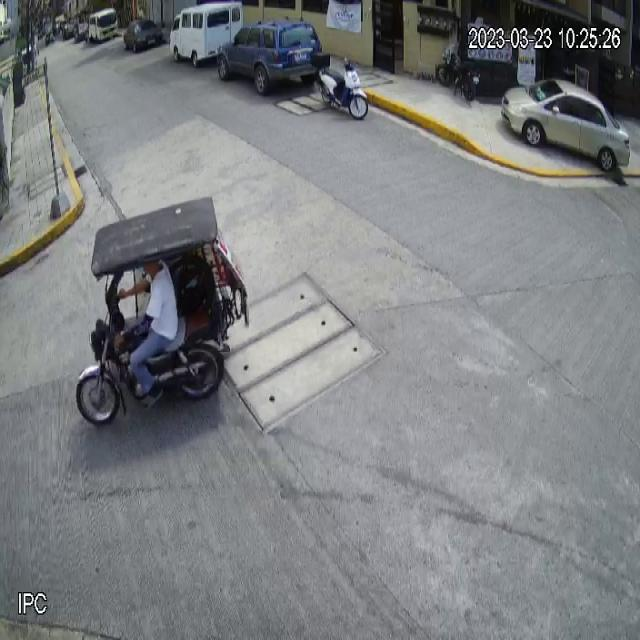Car: (501, 78, 630, 171), (216, 16, 323, 96)
Motorcycle: (309, 49, 369, 120)
Tricycle: (74, 194, 250, 437)
Van: (169, 0, 242, 69)
